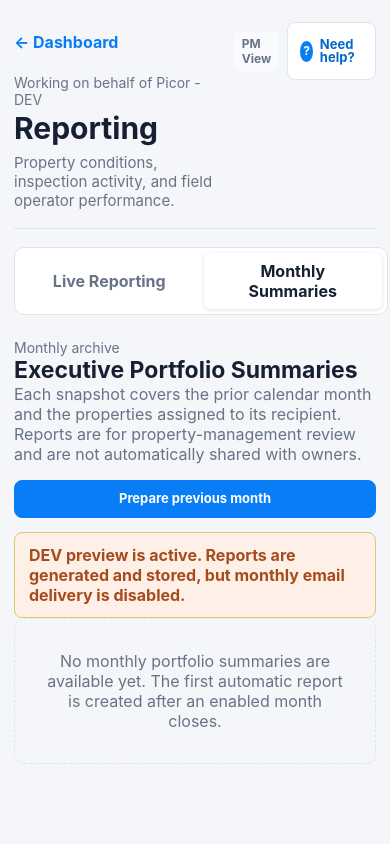
Test: an enabled recipient can queue the previous month from Reporting
Click the button "Prepare previous month". click: [195, 499]
box: [14,480,376,518]
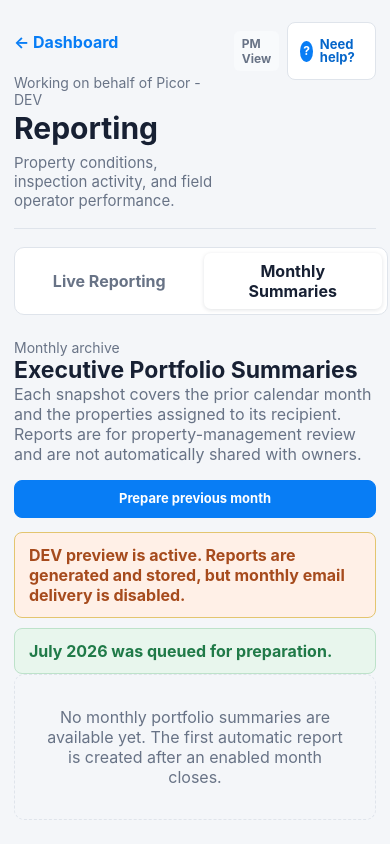
Now the text "July 2026 was queued for preparation." is shown, box [14,628,376,674]
